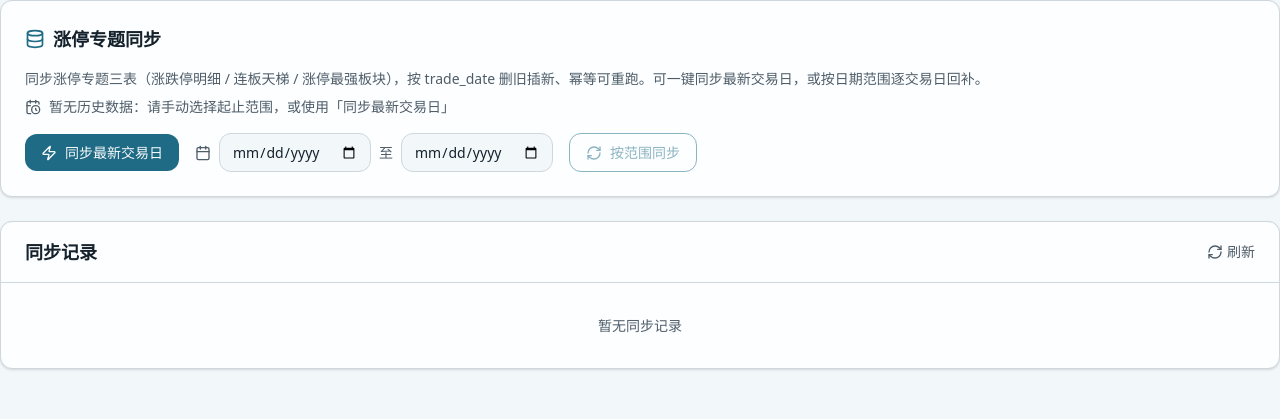
Test: LimitSyncPanel › 默认渲染与前端校验 › 起止不成对：「按范围同步」禁用 + 提示（镜像后端 400 拒绝口径）
The width and height of the screenshot is (1280, 419).
Type "2026-08-01" into the date field named "开始日期" at (295, 152), box [219,133,371,172]
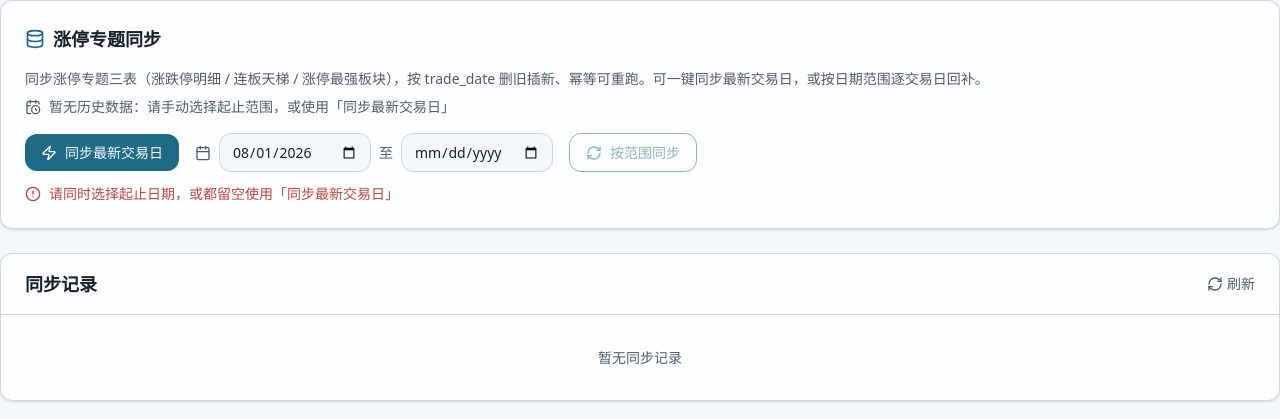
Expected: the button with test id "limit-sync-start-button" is disabled, [569,133,697,172]
Expected: the element with test id "limit-sync-validation-error" shows "同时选择起止日期", [49,184,399,203]
